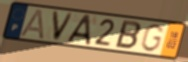2: (94, 18, 117, 47)
A: (65, 14, 93, 47), (19, 8, 45, 41)
B: (113, 19, 142, 51)
G: (138, 24, 165, 54)
V: (51, 10, 75, 43)
